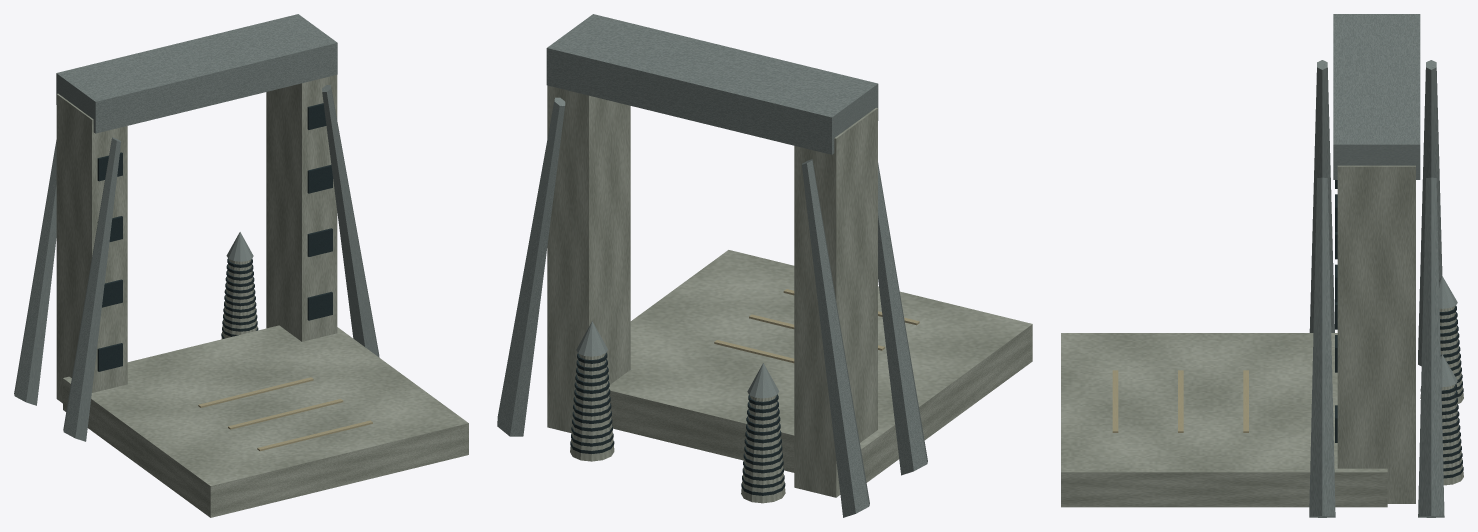
The model's file is spaceport_gate_01.fbx.
3 views of the same model, side by side, from view 1: azimuth 30°, elevation 25°; view 2: azimuth 150°, elevation 25°; view 3: azimuth 270°, elevation 25° (orthographic). The views are drawn at different scales.
Parts seen in each view (by area): view 1: spaceport_gate_01_LOD0; view 2: spaceport_gate_01_LOD0; view 3: spaceport_gate_01_LOD0.
Boxes of the visible parts, x1,y1,x2,y2 form: spaceport_gate_01_LOD0: (14, 14, 468, 517); spaceport_gate_01_LOD0: (497, 14, 1032, 517); spaceport_gate_01_LOD0: (1061, 14, 1463, 517).
Size of what is drawn, in the model's own units: 1 by 1 by 1.
